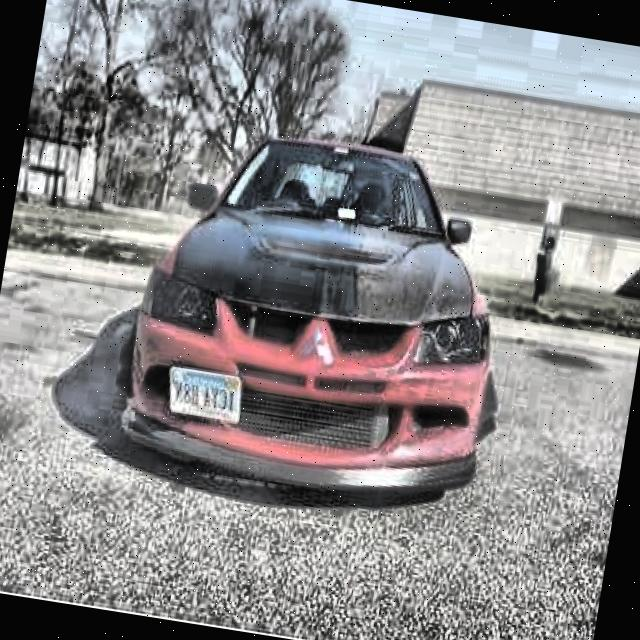license_plate: (163, 366, 244, 424)
